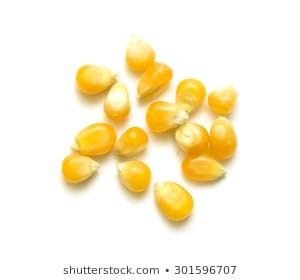corn: (68, 123, 118, 161), (152, 178, 195, 222), (146, 100, 190, 137), (60, 151, 102, 187), (113, 158, 153, 195), (73, 68, 120, 98), (135, 63, 174, 99), (208, 117, 238, 163), (179, 155, 226, 182), (103, 79, 130, 122), (126, 37, 156, 72)
